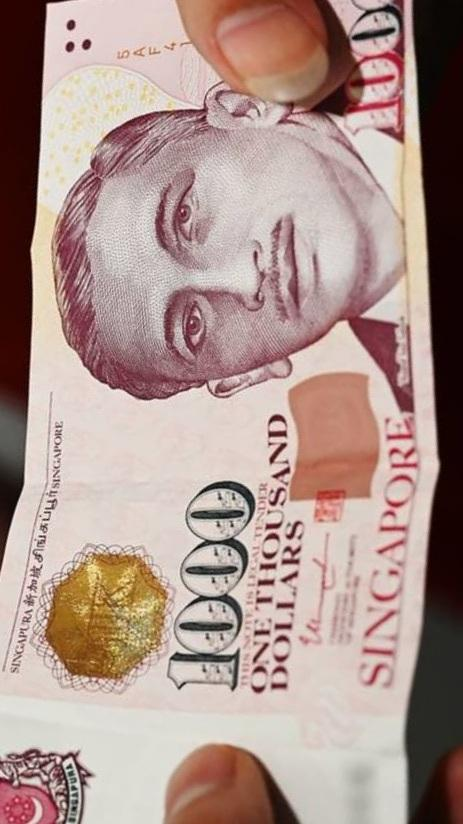1000SingaporeDollar: (0, 0, 403, 824)
